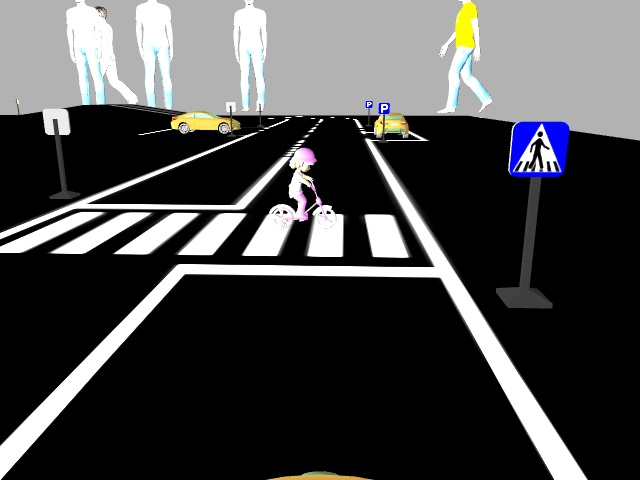Crosswalk: (509, 118, 566, 177)
Parking: (377, 100, 391, 114)
Pedestrian: (261, 146, 338, 228)
